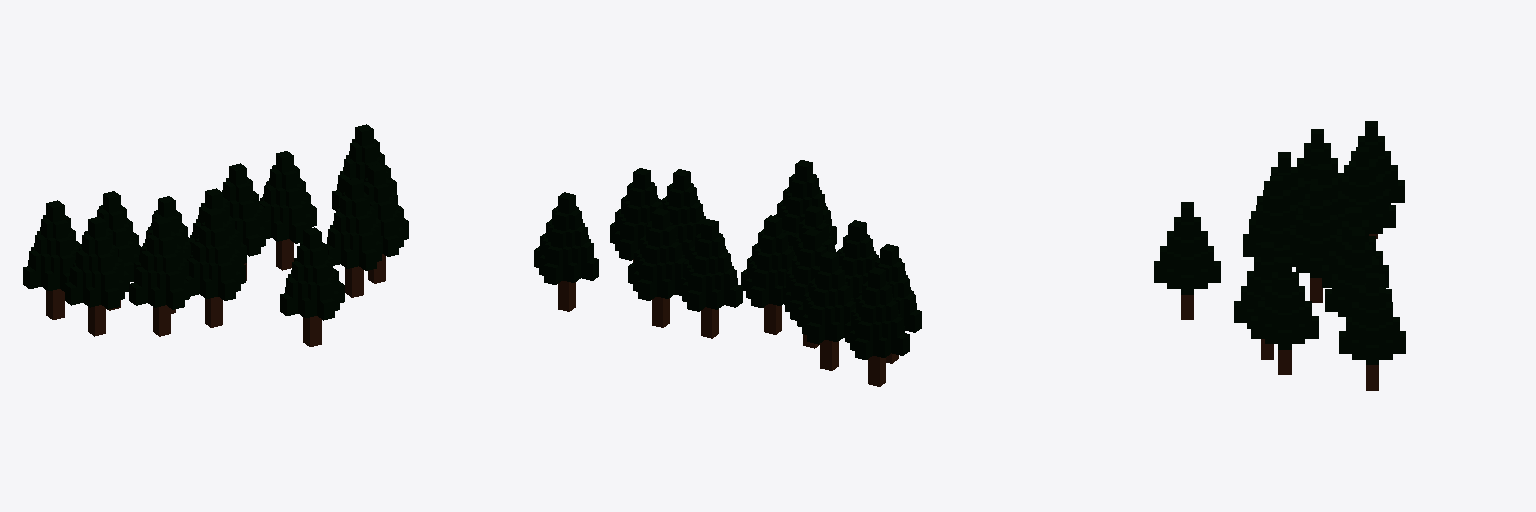
The model's file is pines.obj.
3 views of the same model, side by side, from view 1: azimuth 30°, elevation 25°; view 2: azimuth 150°, elevation 25°; view 3: azimuth 270°, elevation 25° (orthographic).
Parts seen in each view (by area): view 1: SmoothBlockModel97, SmoothBlockModel229, SmoothBlockModel460; view 2: SmoothBlockModel328; view 3: none.
Part boxes in pixels (left/top/right/bottom): SmoothBlockModel97: left=345, top=266, right=363, bottom=297; SmoothBlockModel229: left=46, top=289, right=64, bottom=319; SmoothBlockModel460: left=303, top=316, right=321, bottom=346; SmoothBlockModel328: left=820, top=340, right=838, bottom=370.
Bounding box in the file's own units: 63.1 × 18.4 × 37.5.